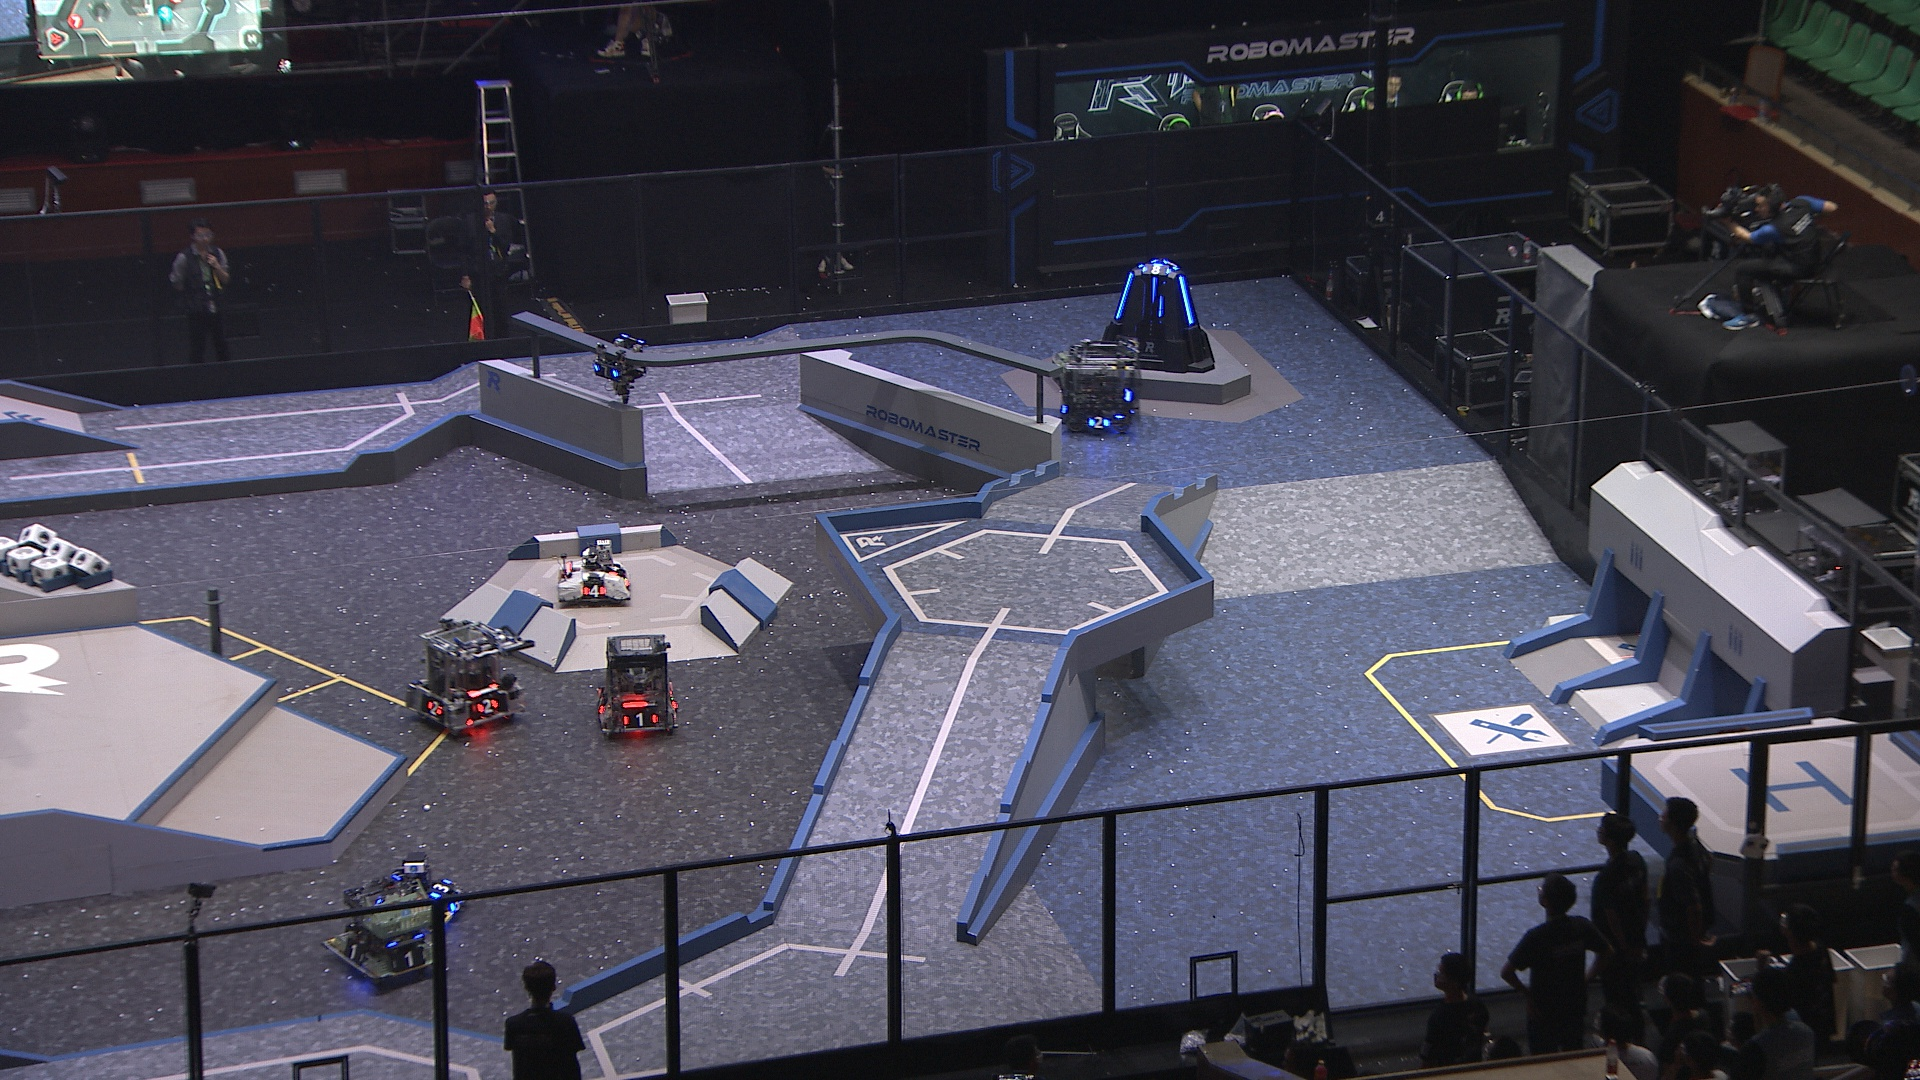armor: (1112, 272, 1134, 320), (1178, 273, 1197, 327), (389, 945, 429, 972), (340, 938, 367, 965), (622, 711, 659, 728), (429, 878, 454, 901), (475, 695, 501, 713), (1139, 262, 1174, 276), (593, 363, 618, 380), (425, 698, 446, 717), (1087, 415, 1112, 431), (583, 584, 608, 597), (1150, 276, 1159, 305), (1155, 295, 1166, 320), (596, 695, 607, 713), (448, 899, 463, 913), (607, 564, 622, 576)
base: (1100, 261, 1218, 373)
car: (406, 617, 531, 740), (320, 873, 440, 989), (1050, 339, 1141, 436), (596, 633, 680, 736), (367, 853, 468, 931), (558, 538, 633, 605)
watcher: (591, 334, 651, 404)
